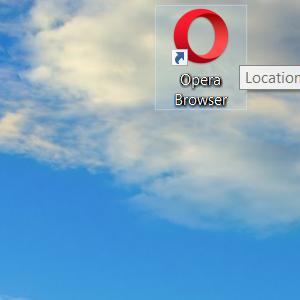opera: (171, 8, 229, 66)
